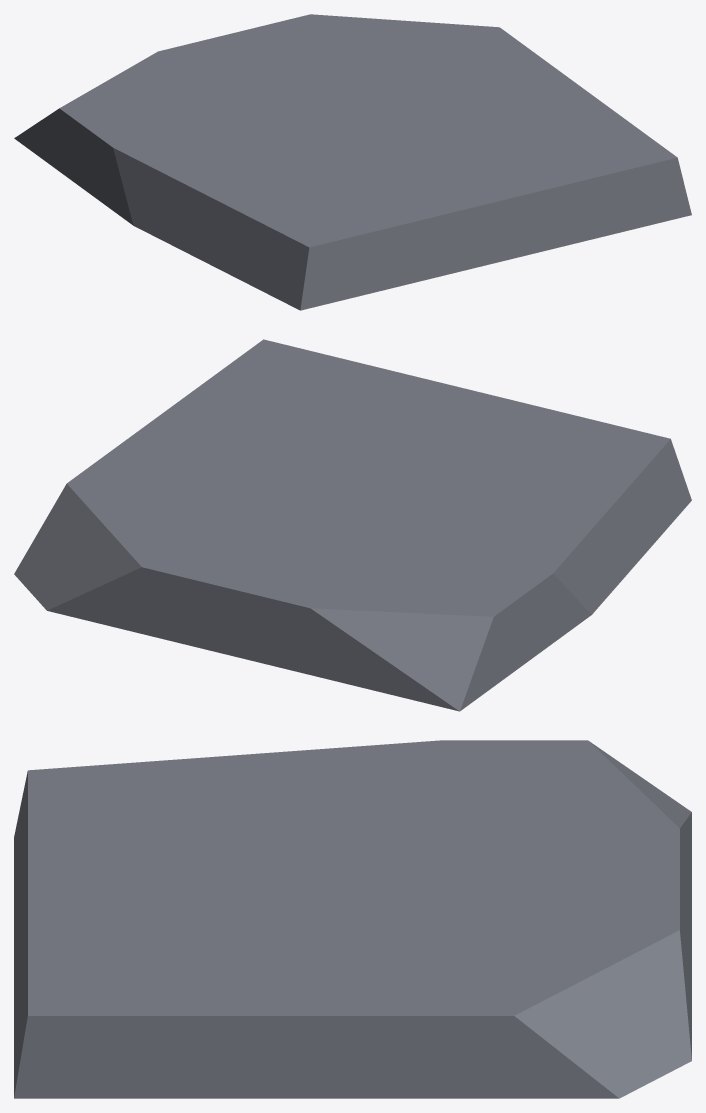
File: Rock_Tile_m_08.fbx
3 renders of one model, top to bottom at view 1: azimuth 30°, elevation 25°; view 2: azimuth 150°, elevation 25°; view 3: azimuth 270°, elevation 25°, orthographic. The views are drawn at different scales.
Visible parts, largest first — view 1: Rock_Tile_m_08; view 2: Rock_Tile_m_08; view 3: Rock_Tile_m_08.
Part boxes in pixels (bbox=[...]): Rock_Tile_m_08: bbox=[14, 14, 691, 310]; Rock_Tile_m_08: bbox=[14, 339, 691, 711]; Rock_Tile_m_08: bbox=[14, 740, 691, 1098].
Bounding box in the file's own units: 40 × 4.99 × 40.
